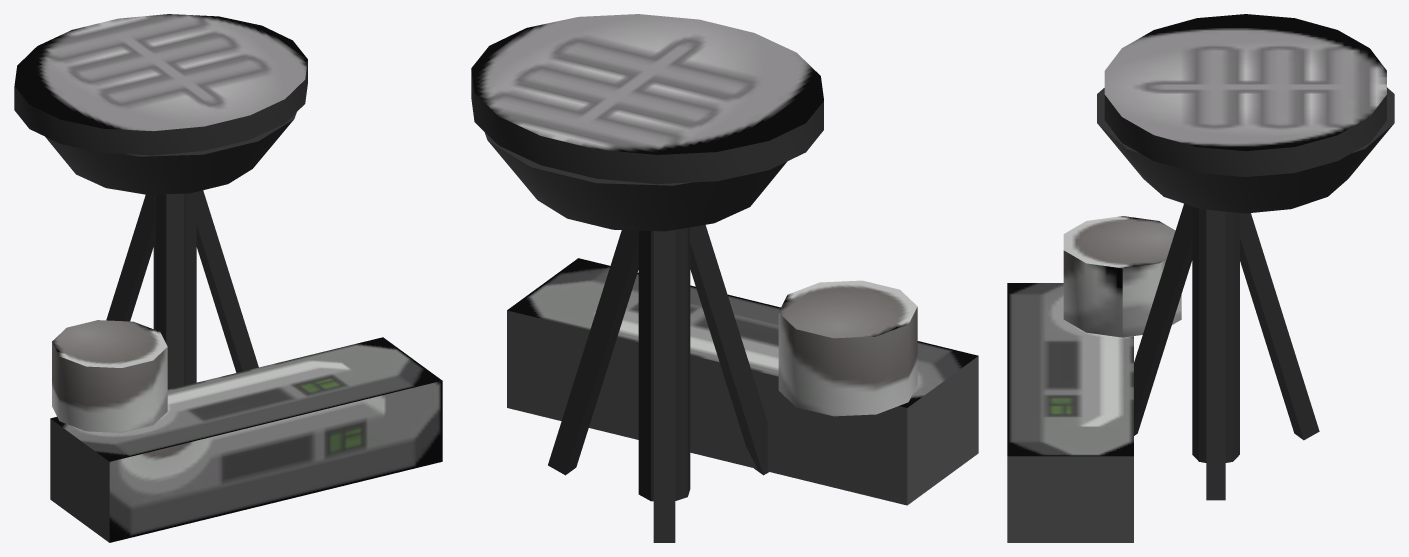
The model's file is Building_MechbandDish.obj.
The picture shows the model from 3 angles, left to right: view 1: azimuth 30°, elevation 25°; view 2: azimuth 150°, elevation 25°; view 3: azimuth 270°, elevation 25°; orthographic projection. The views are drawn at different scales.
Visible parts, largest first — view 1: Body; view 2: Body; view 3: Body.
Part boxes in pixels (x1,y1,x2,y2): Body: (14, 14, 442, 542); Body: (471, 14, 978, 542); Body: (1007, 14, 1394, 542).
Bounding box in the file's own units: 0.8594 × 0.8658 × 0.812.
1 material, 1 textured.
